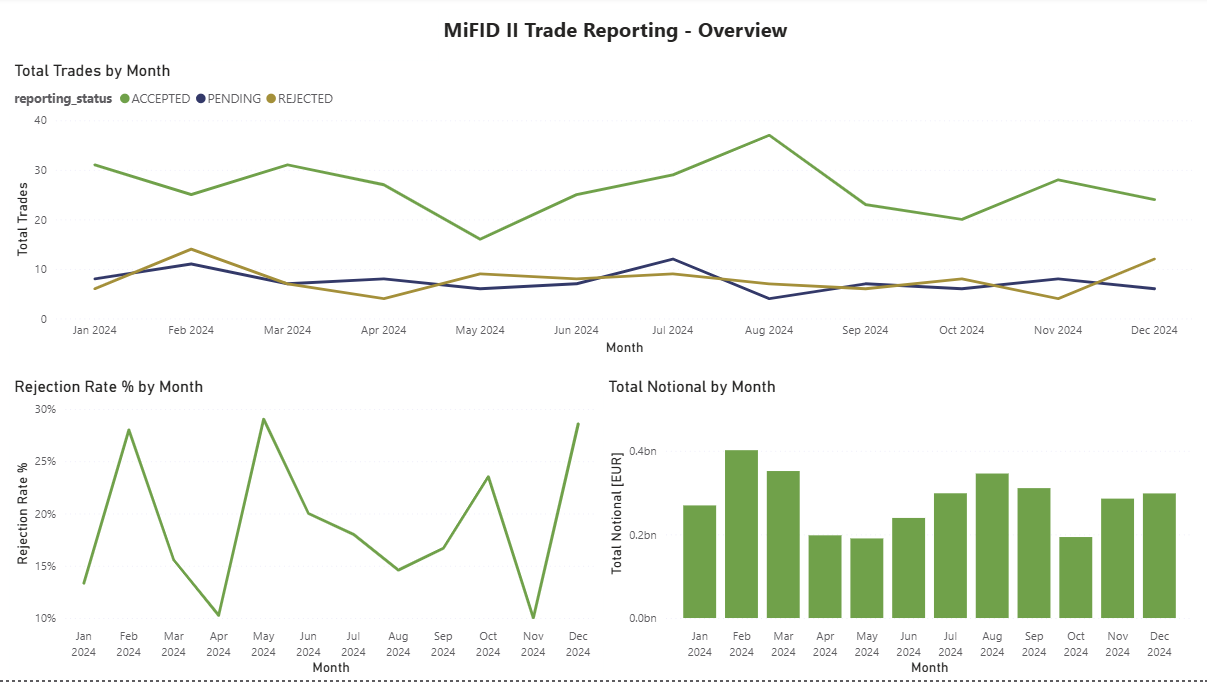

This screenshot's page, from the dashboard's own definition file:
{"tool":"powerbi","page":{"name":"Timeline","canvas":[1280,720],"ordinal":3},"visuals":[{"type":"lineChart","title":"Total Trades by Month","fields":{"Y":["synthetic_trades.Total Trades"],"Series":["synthetic_trades.reporting_status"],"Category":["DateTable.Month"]},"box":[14.2,67.9,1250.5,314.2],"z":0},{"type":"lineChart","fields":{"Y":["synthetic_trades.Rejection Rate %"],"Category":["DateTable.Month"]},"box":[14.2,401.1,625.3,317.4],"z":1000},{"type":"clusteredColumnChart","title":"Total Notional by Month","fields":{"Y":["synthetic_trades.Total Notional [EUR]"],"Category":["DateTable.Month"]},"box":[639.5,401.1,625.3,317.4],"z":2000},{"type":"textbox","box":[465.8,14.2,386.8,53.7],"z":3000}]}

Visuals, with their boxes in screenshot pixels (x1, y1, x2, y2), scaled from the page's 1280x720 canvas onto the 1207x682 screenshot:
"Total Trades by Month" lineChart: (13,64,1193,362)
lineChart - synthetic_trades.Rejection Rate % x DateTable.Month: (13,380,603,681)
"Total Notional by Month" clusteredColumnChart: (603,380,1193,681)
textbox: (439,13,804,64)
